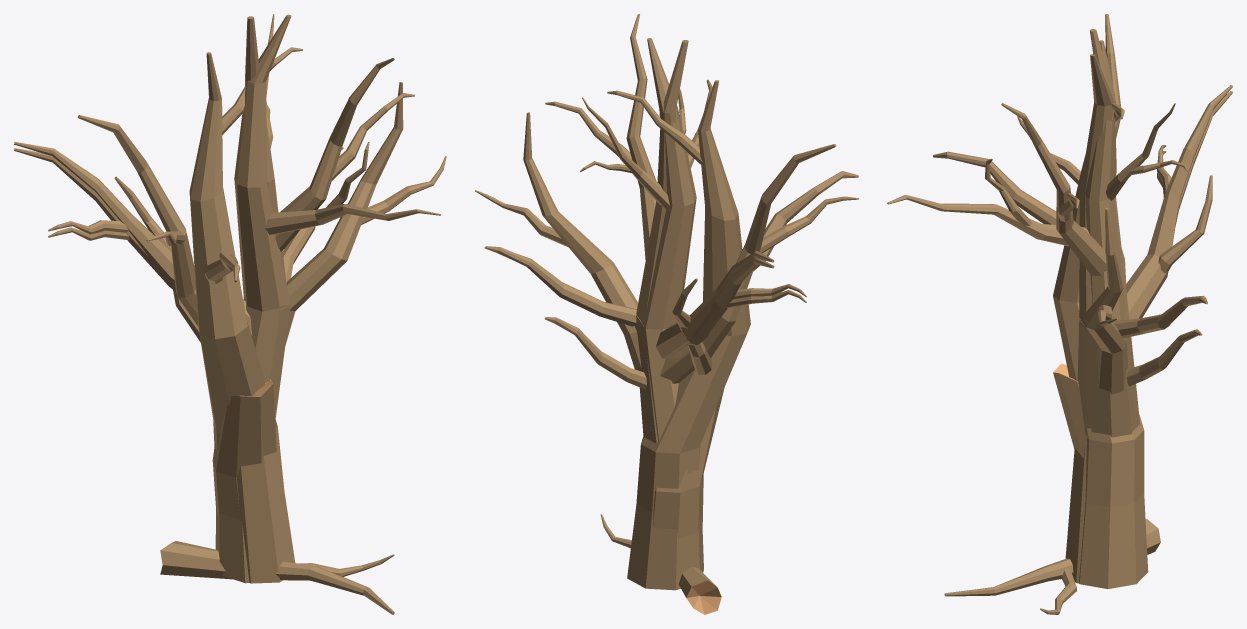
Rendered from Trees1.fbx.
The picture shows the model from 3 angles, left to right: view 1: azimuth 30°, elevation 25°; view 2: azimuth 150°, elevation 25°; view 3: azimuth 270°, elevation 25°; orthographic projection. The views are drawn at different scales.
Parts seen in each view (by area): view 1: Tree3, Tree2, Tree1, Tree5, Tree4, Tree6; view 2: Tree2, Tree1, Tree3, Tree5, Tree6, Tree4; view 3: Tree1, Tree3, Tree2, Tree4, Tree5, Tree6.
Boxes of the visible parts, x1=… form: Tree3: x1=14, y1=14, x2=440, y2=583; Tree2: x1=114, y1=47, x2=446, y2=490; Tree1: x1=77, y1=16, x2=414, y2=583; Tree5: x1=212, y1=379, x2=276, y2=519; Tree4: x1=160, y1=541, x2=394, y2=614; Tree6: x1=14, y1=148, x2=289, y2=382; Tree2: x1=475, y1=80, x2=858, y2=512; Tree1: x1=484, y1=14, x2=858, y2=590; Tree3: x1=545, y1=38, x2=806, y2=524; Tree5: x1=653, y1=388, x2=724, y2=538; Tree6: x1=636, y1=258, x2=806, y2=358; Tree4: x1=600, y1=514, x2=721, y2=614; Tree1: x1=1001, y1=14, x2=1207, y2=588; Tree3: x1=887, y1=54, x2=1232, y2=583; Tree2: x1=933, y1=40, x2=1212, y2=507; Tree4: x1=944, y1=519, x2=1160, y2=614; Tree5: x1=1053, y1=363, x2=1086, y2=458; Tree6: x1=1077, y1=91, x2=1232, y2=373.
Size of the model in its own units: 505 by 731 by 420.
